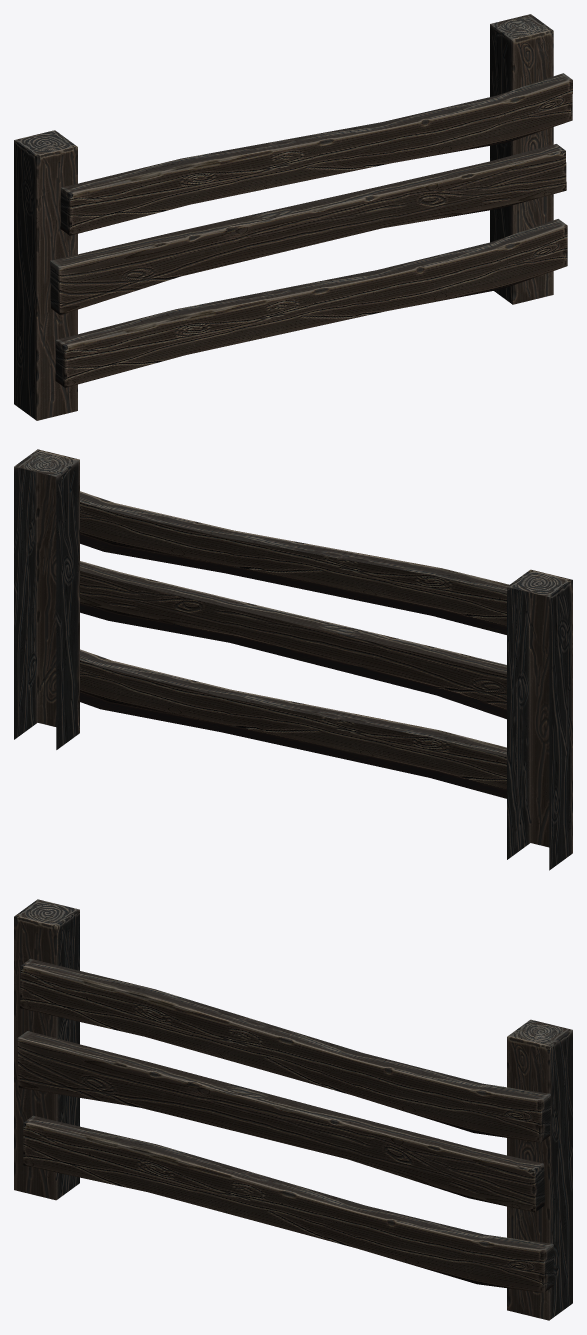
The model's file is fence1.fbx.
The picture shows the model from 3 angles, top to bottom: view 1: azimuth 30°, elevation 25°; view 2: azimuth 150°, elevation 25°; view 3: azimuth 330°, elevation 25°; orthographic projection. The views are drawn at different scales.
Visible parts, largest first — view 1: fence_01; view 2: fence_01; view 3: fence_01.
Boxes of the visible parts, left/top/right/bottom form: fence_01: left=14, top=14, right=572, bottom=420; fence_01: left=14, top=449, right=572, bottom=870; fence_01: left=14, top=899, right=572, bottom=1320.
Bounding box in the file's own units: 120 × 58.04 × 14.54.
1 material, 1 textured.
